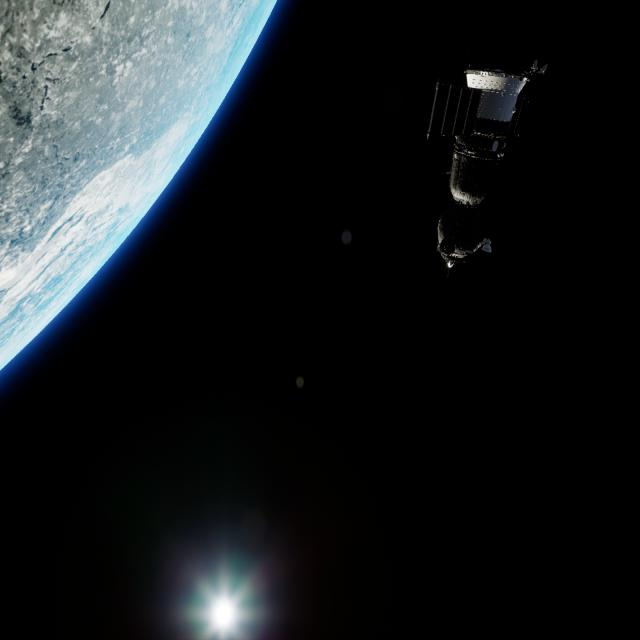Satellites revolving around earth: (1, 1, 279, 374), (423, 55, 549, 273)
